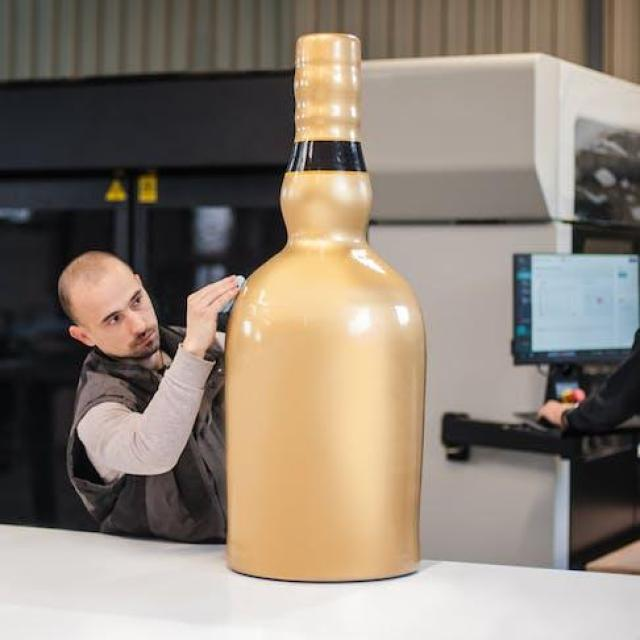Without deffect: (199, 4, 439, 592)
